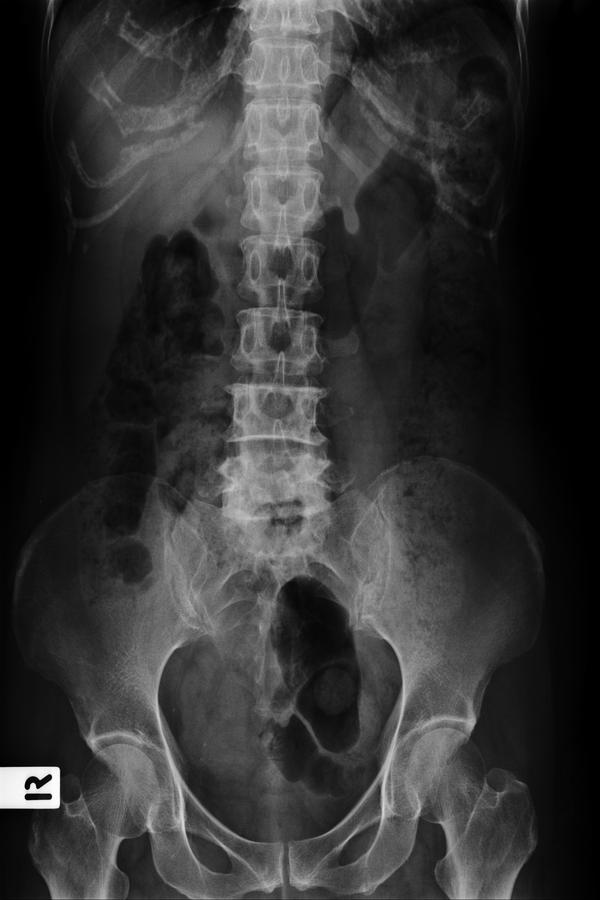lumbar scoliosis: (227, 8, 345, 544)
